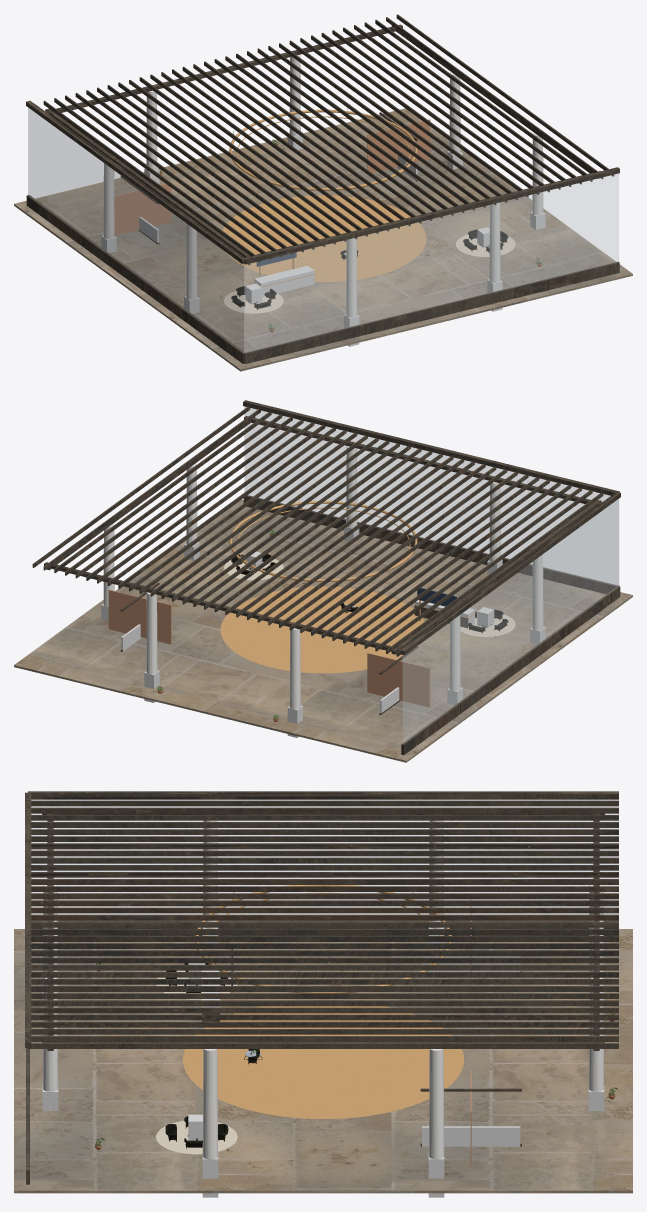
Rendered from lobby.glb.
3 views of the same model, one above another, from view 1: azimuth 30°, elevation 25°; view 2: azimuth 150°, elevation 25°; view 3: azimuth 270°, elevation 25° (orthographic). The views are drawn at different scales.
Visible parts, largest first — view 1: Lobby_Shell_Baked, COL_Reception, Rug_-13, Rug_13; view 2: Lobby_Shell_Baked, Rug_-13; view 3: Lobby_Shell_Baked, COL_Claustra_14.5, Rug_13.
Part boxes in pixels (<box>): Lobby_Shell_Baked: <box>14,14,632,371</box>; COL_Reception: <box>254,265,314,296</box>; Rug_-13: <box>224,291,283,313</box>; Rug_13: <box>456,234,515,256</box>; Lobby_Shell_Baked: <box>14,400,632,762</box>; Rug_-13: <box>460,613,515,636</box>; Lobby_Shell_Baked: <box>14,791,632,1193</box>; COL_Claustra_14.5: <box>422,1126,520,1146</box>; Rug_13: <box>156,1120,237,1154</box>.
Size of the model in its own units: 44 by 12.68 by 44.
Materials: 14 (9 with a texture image).
